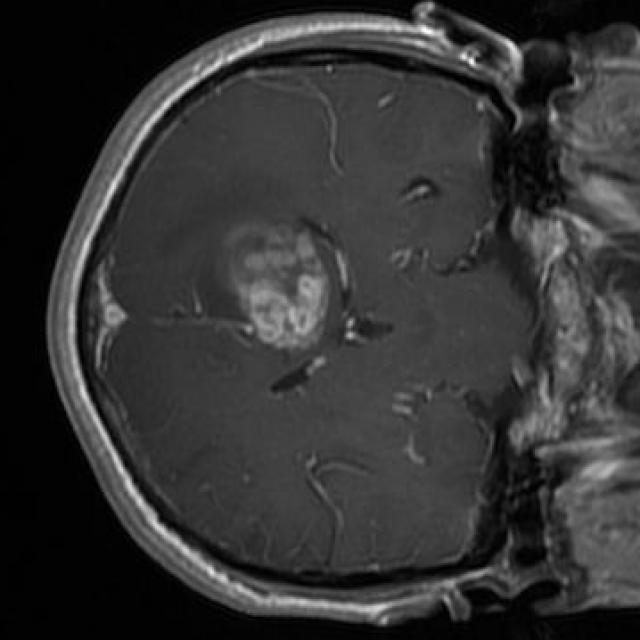glioma: (219, 223, 351, 349)
